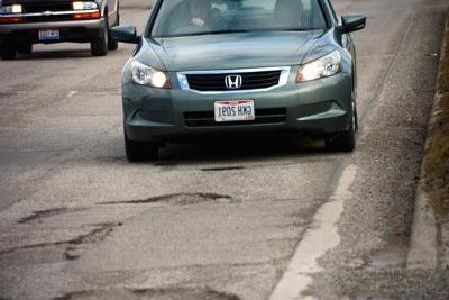pothole: (53, 284, 244, 299), (147, 190, 234, 210)
